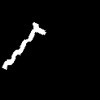half_double_crochet: (3, 22, 45, 68)
